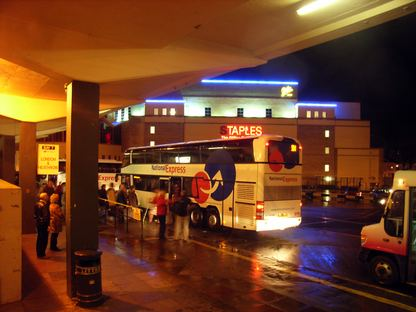bus: (114, 133, 302, 232), (360, 170, 416, 288)
